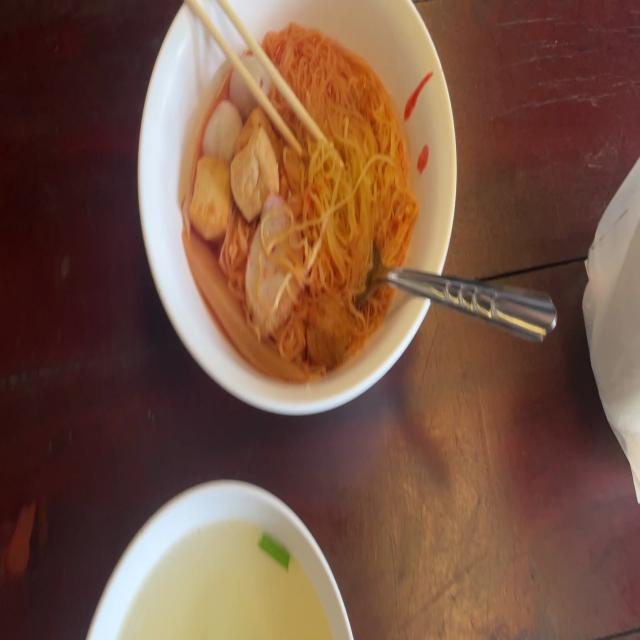crunchy_squid: (180, 226, 305, 390)
egg_noodles: (288, 35, 411, 310)
fish_ball: (230, 54, 275, 118), (202, 99, 241, 166)
fried_fish_balls: (247, 191, 306, 336)
fried_tofu: (238, 110, 276, 198)
noodle: (195, 29, 415, 370)
tofu: (194, 159, 232, 229)
